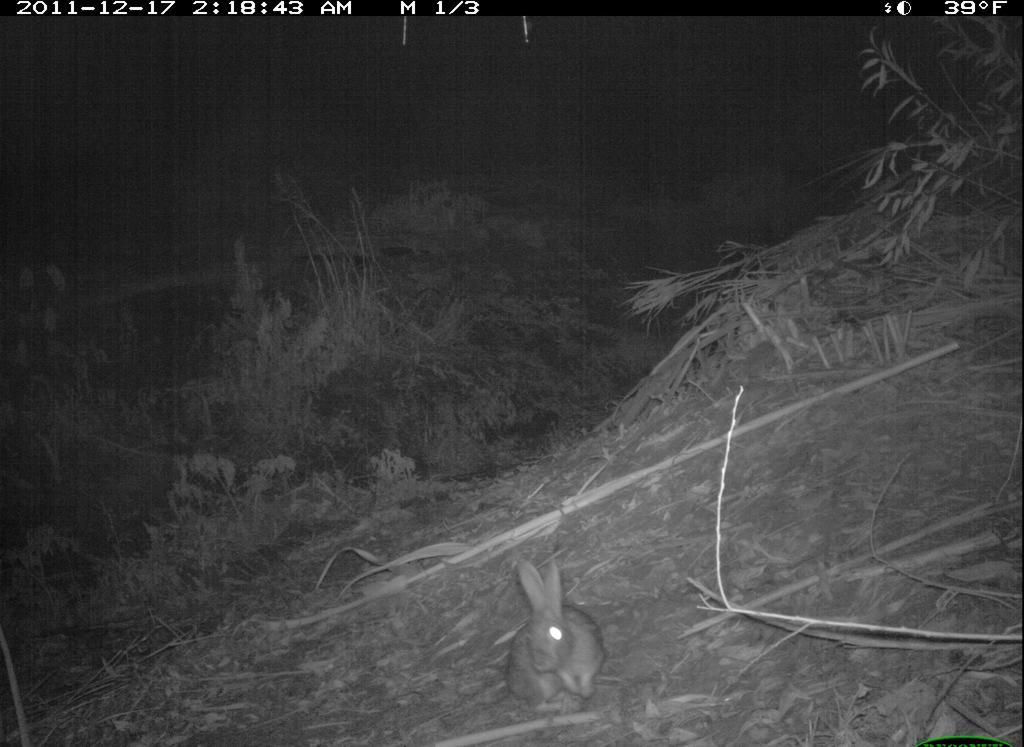rabbit: (493, 545, 615, 710)
